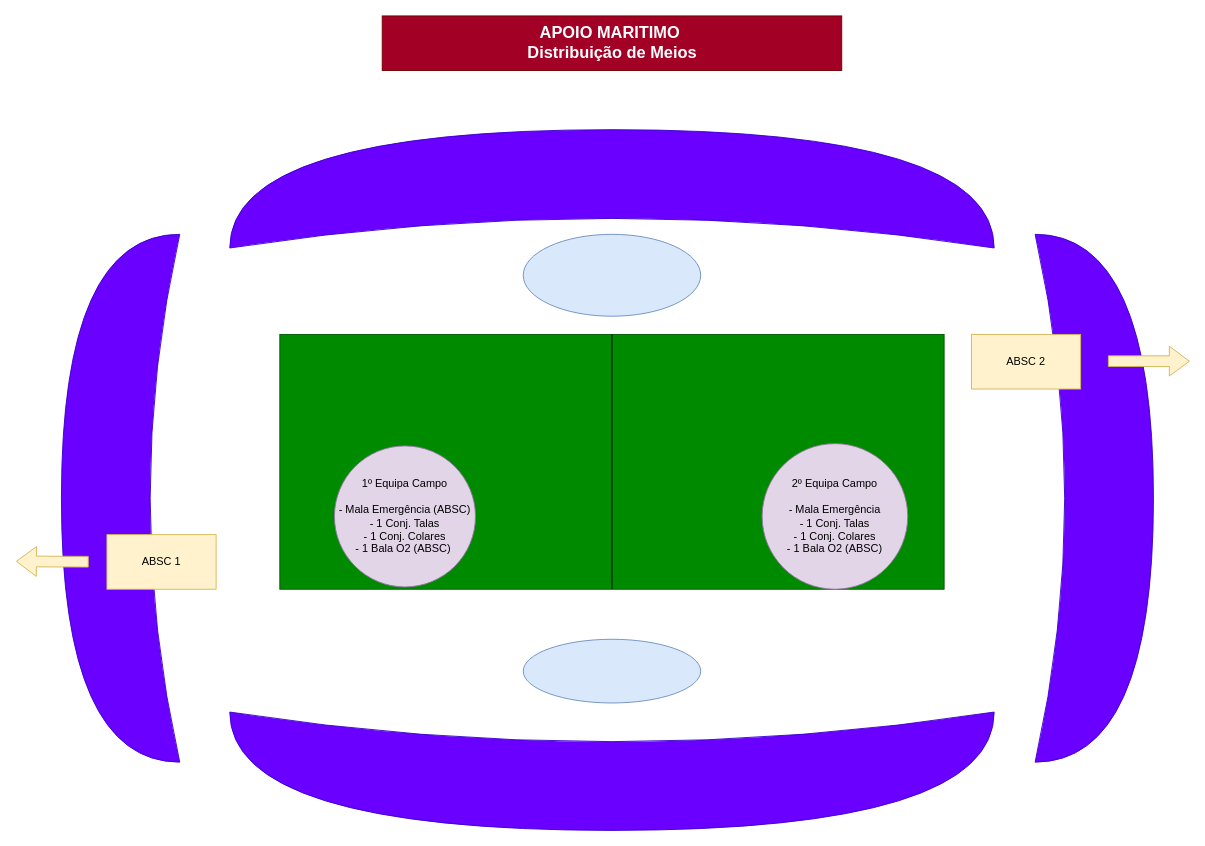
Image size: 1205x846. Some labels were removed from this diagram. Each missing label, with the centre of its shape:
1º Equipa Apeada - ECO DAE - Bala O2: (x=611, y=274)
2º Equipa Apeada - ECO -Bala O2: (x=611, y=670)
